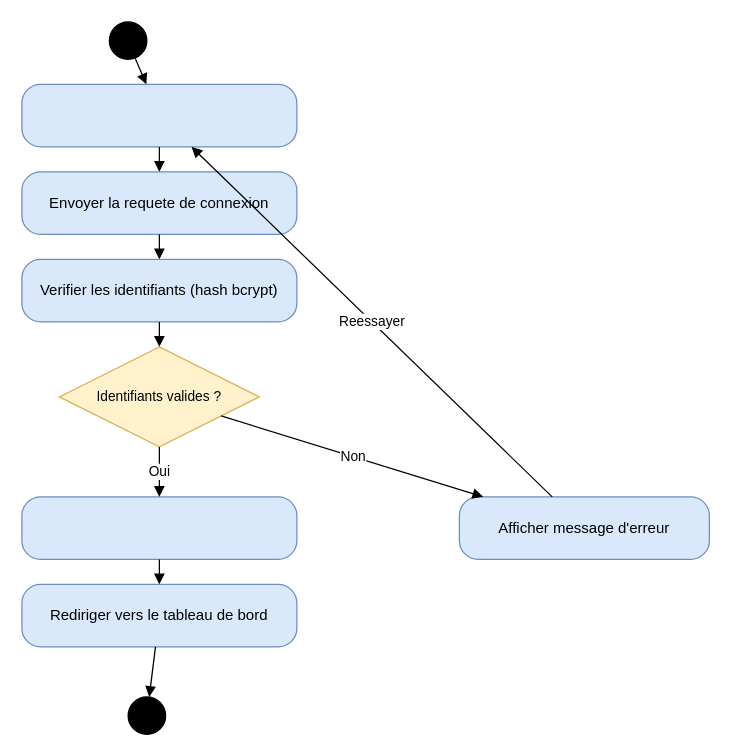
Some shapes in this 731 by 756 pixel diagram are drawn without their labels. Each missing label, with the box of its shape:
Generer le token JWT: (21, 496, 297, 559)
Saisir email et mot de passe: (21, 83, 297, 147)
